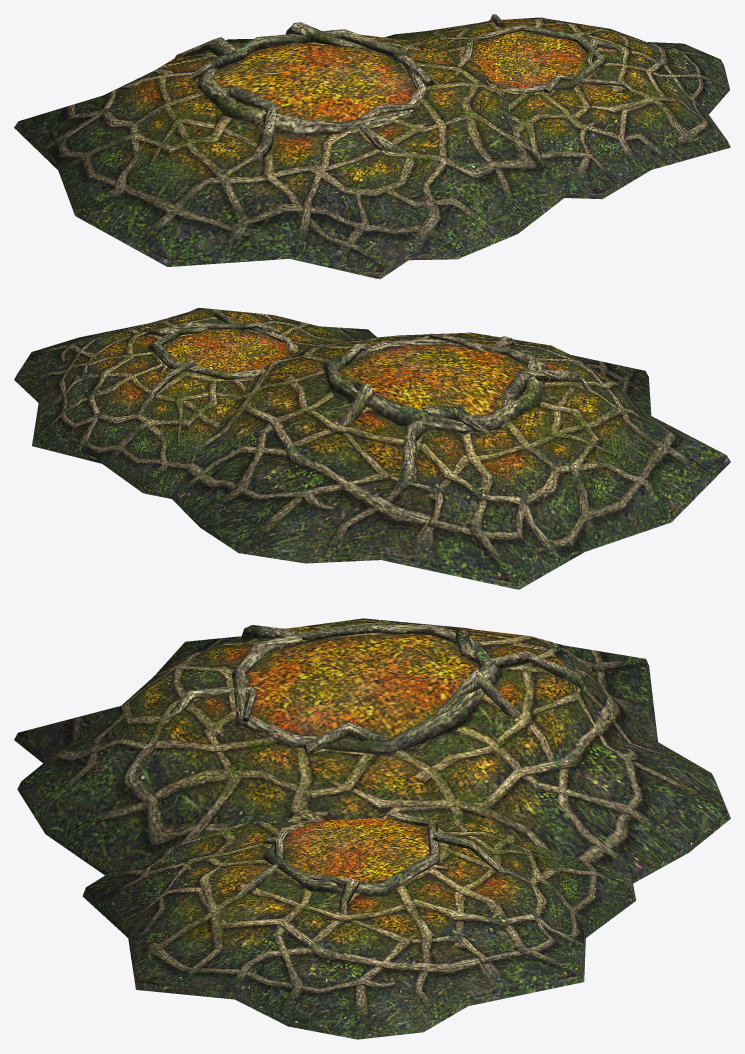
The model's file is deadmushroom_05.fbx.
3 renders of one model, top to bottom at view 1: azimuth 30°, elevation 25°; view 2: azimuth 150°, elevation 25°; view 3: azimuth 270°, elevation 25°, orthographic. The views are drawn at different scales.
Parts seen in each view (by area): view 1: deadmushroom_05; view 2: deadmushroom_05; view 3: deadmushroom_05.
Part boxes in pixels (box(x1,y1,x2,y2)): deadmushroom_05: box(14, 14, 730, 279); deadmushroom_05: box(14, 308, 730, 589); deadmushroom_05: box(14, 618, 730, 1039).
Size of the model in its own units: 18.72 by 2.84 by 14.1.
